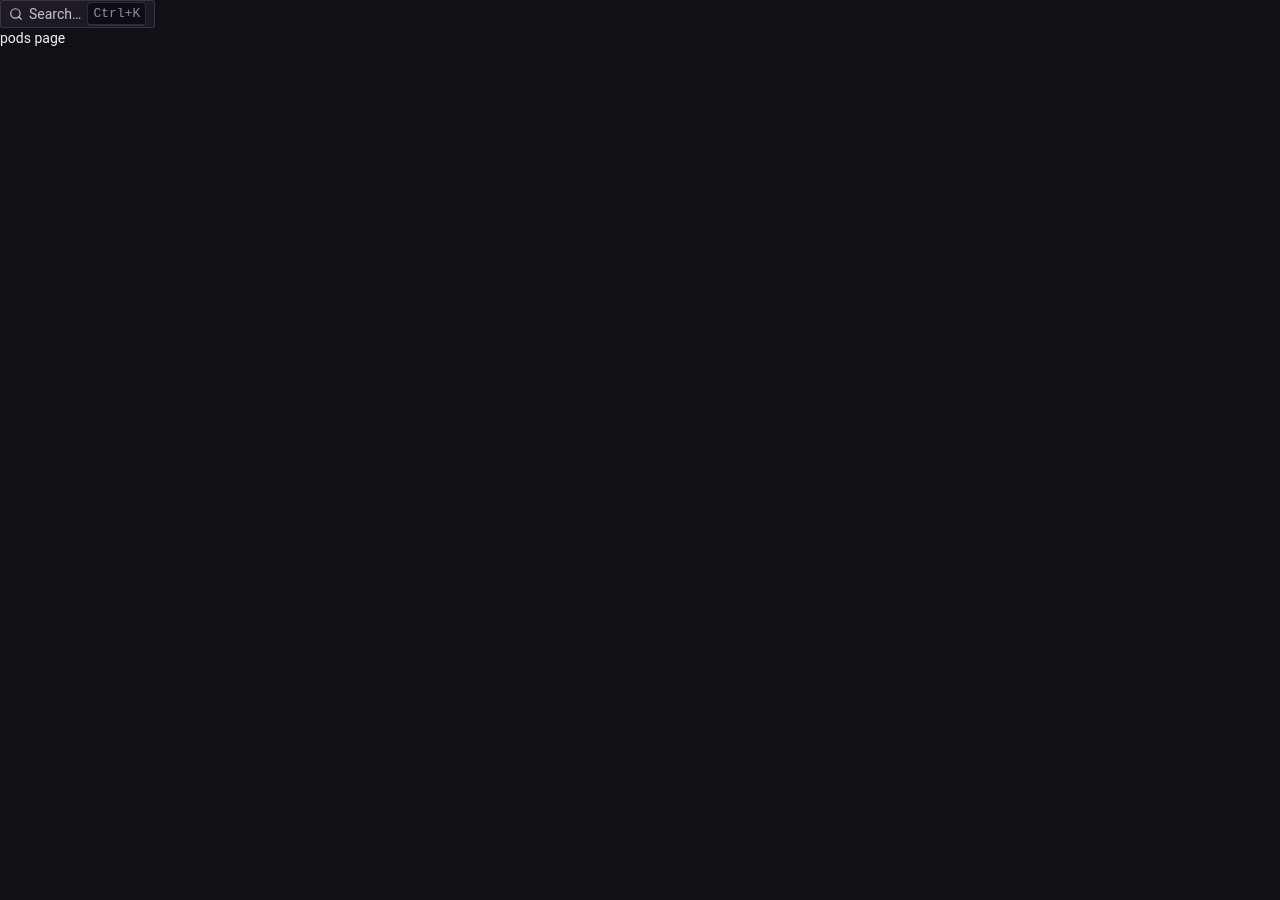
Test case: command center local resource search (F5-06) › prioritizes available favorites without duplicating their resource result
Press k
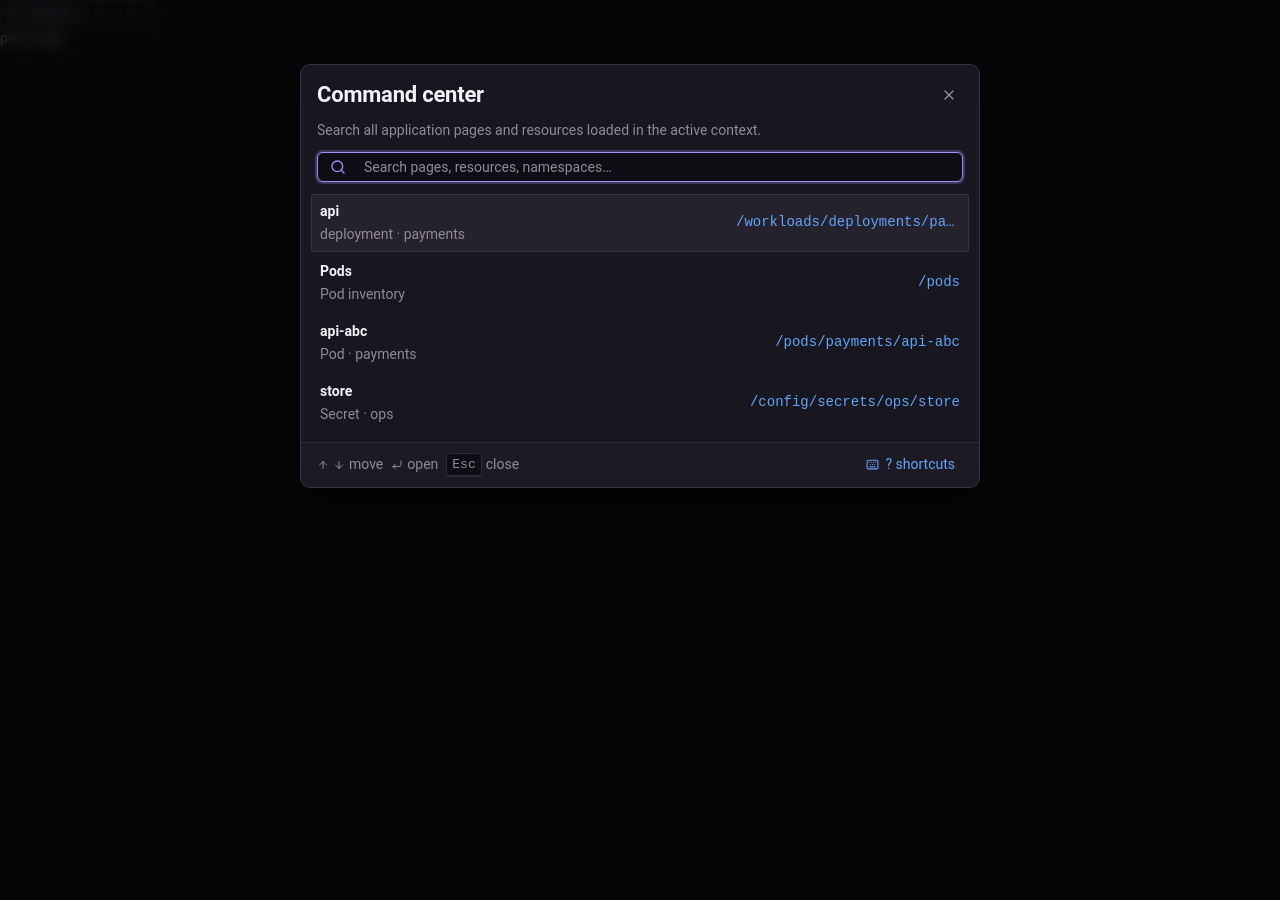
Result: the number of options is 4
Result: the 1st option shows "deployment · payments"
Click the 1st option.
click(392, 234)  # box [311, 194, 969, 252]
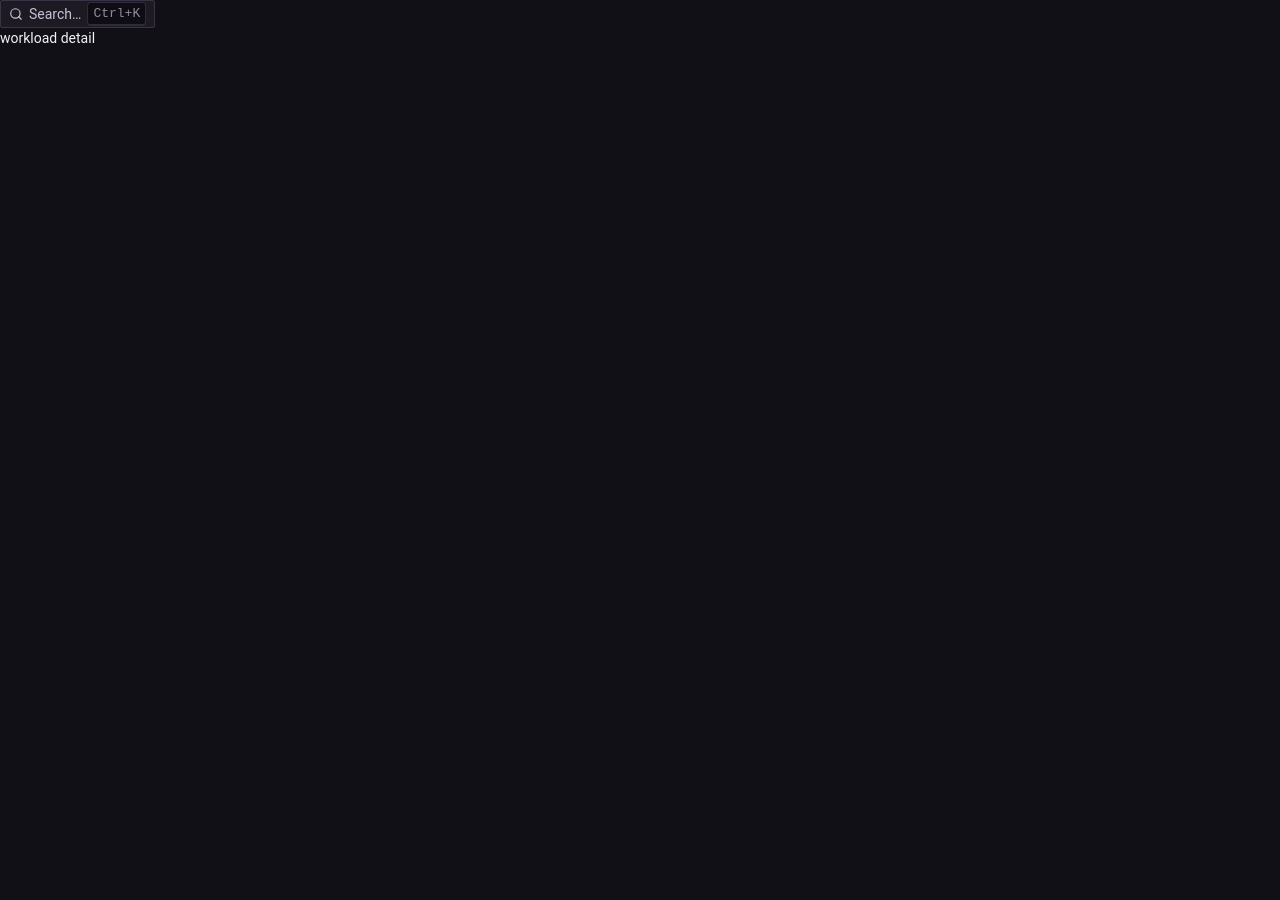
Result: the text "workload detail" is shown at [0, 30, 95, 46]
